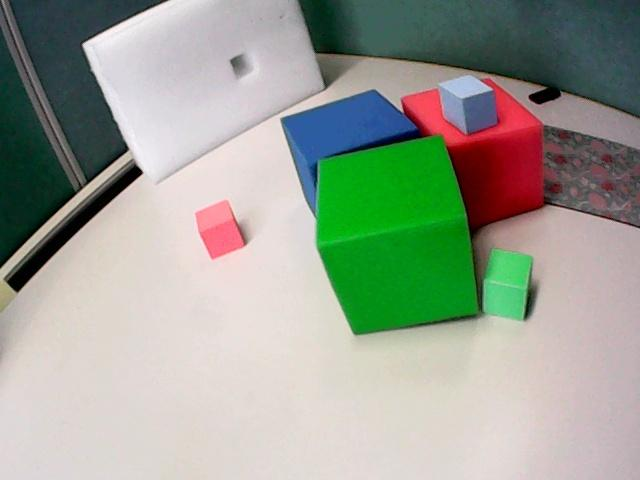blue_block: (281, 90, 418, 211), (439, 75, 497, 133)
red_block: (402, 79, 543, 228), (196, 200, 244, 258)
